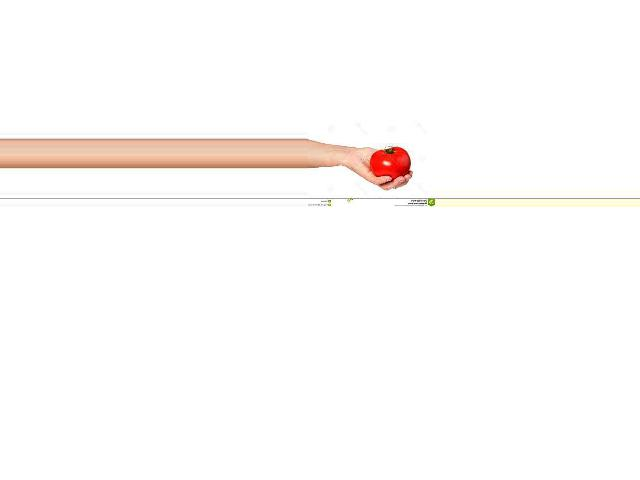tomato: (368, 146, 410, 180)
